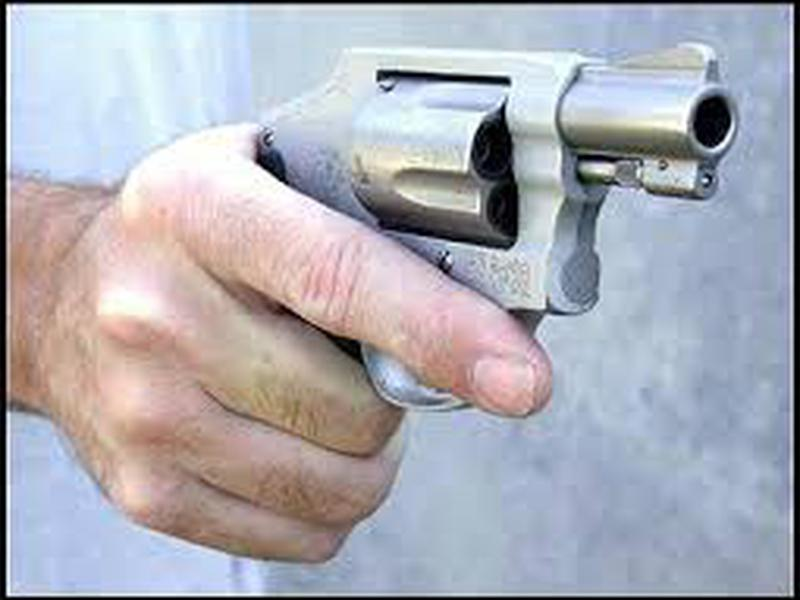gun: (31, 32, 746, 575)
